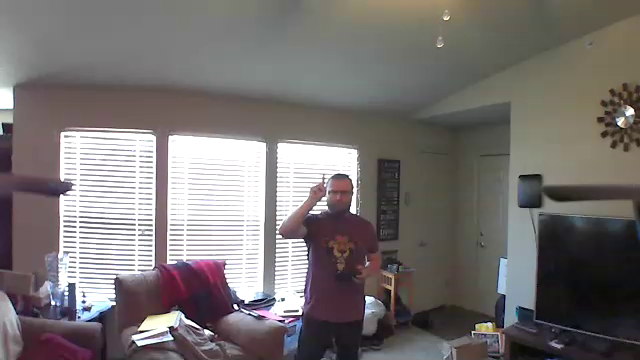up: (305, 171, 328, 203)
